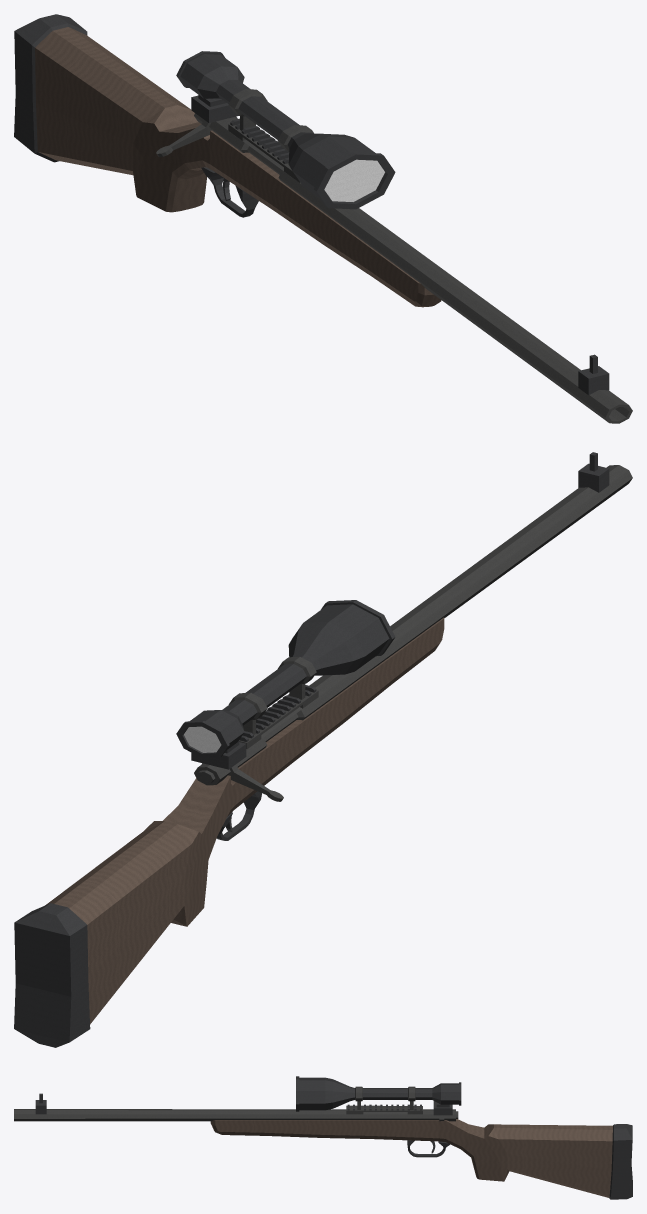
The model's file is rifle.glb.
3 renders of one model, top to bottom at view 1: azimuth 30°, elevation 25°; view 2: azimuth 150°, elevation 25°; view 3: azimuth 270°, elevation 25°, orthographic. The views are drawn at different scales.
Visible parts, largest first — view 1: part_body, part_scope, part_sights, part_bolt; view 2: part_body, part_scope, part_sights; view 3: part_body, part_scope, part_sights.
Part boxes in pixels (x1,y1,x2,y2): part_body: (14,14,632,423); part_scope: (176,51,395,209); part_sights: (191,95,609,395); part_bolt: (156,116,237,157); part_body: (14,465,632,1047); part_scope: (176,600,395,758); part_sights: (191,452,609,769); part_body: (14,1104,632,1199); part_scope: (296,1076,461,1111); part_sights: (35,1093,452,1115).
Bounding box in the file's own units: 0.1471 × 0.3015 × 1.43.
Materials: 5 (5 with a texture image).
